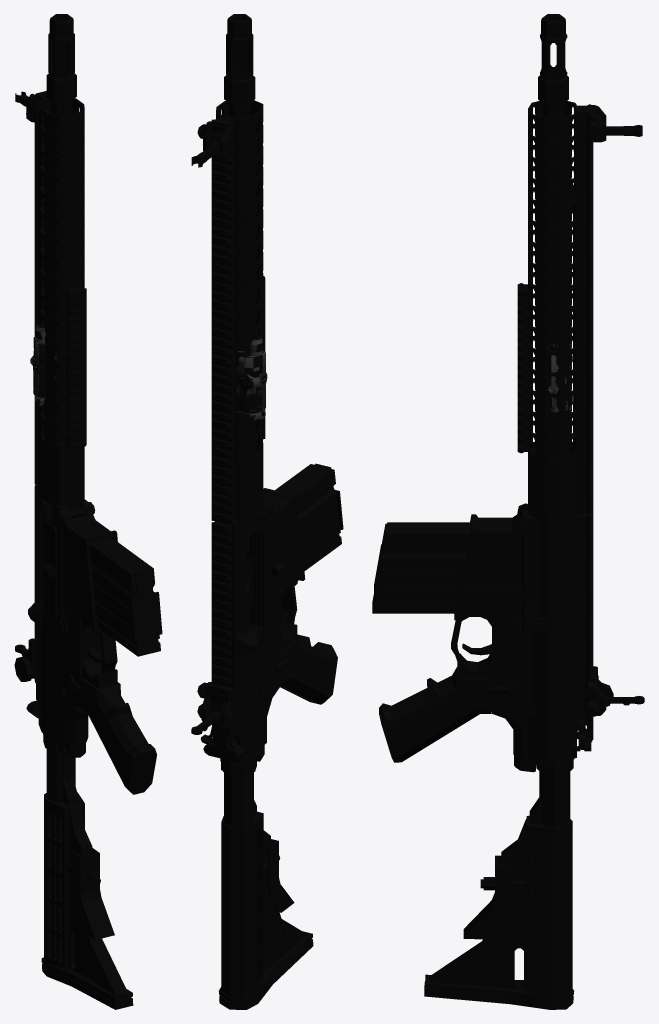
Rendered from SR25__Laser_Rifle.fbx.
3 renders of one model, left to right at view 1: azimuth 30°, elevation 25°; view 2: azimuth 150°, elevation 25°; view 3: azimuth 270°, elevation 25°, orthographic. The views are drawn at different scales.
Visible parts, largest first — view 1: asset_SR25.001; view 2: asset_SR25.001; view 3: asset_SR25.001.
Boxes of the visible parts, x1=… form: asset_SR25.001: x1=14, y1=14, x2=162, y2=1009; asset_SR25.001: x1=191, y1=14, x2=343, y2=1009; asset_SR25.001: x1=372, y1=14, x2=644, y2=1009.
Bounding box in the file's own units: 0.033 × 0.612 × 0.1533.
